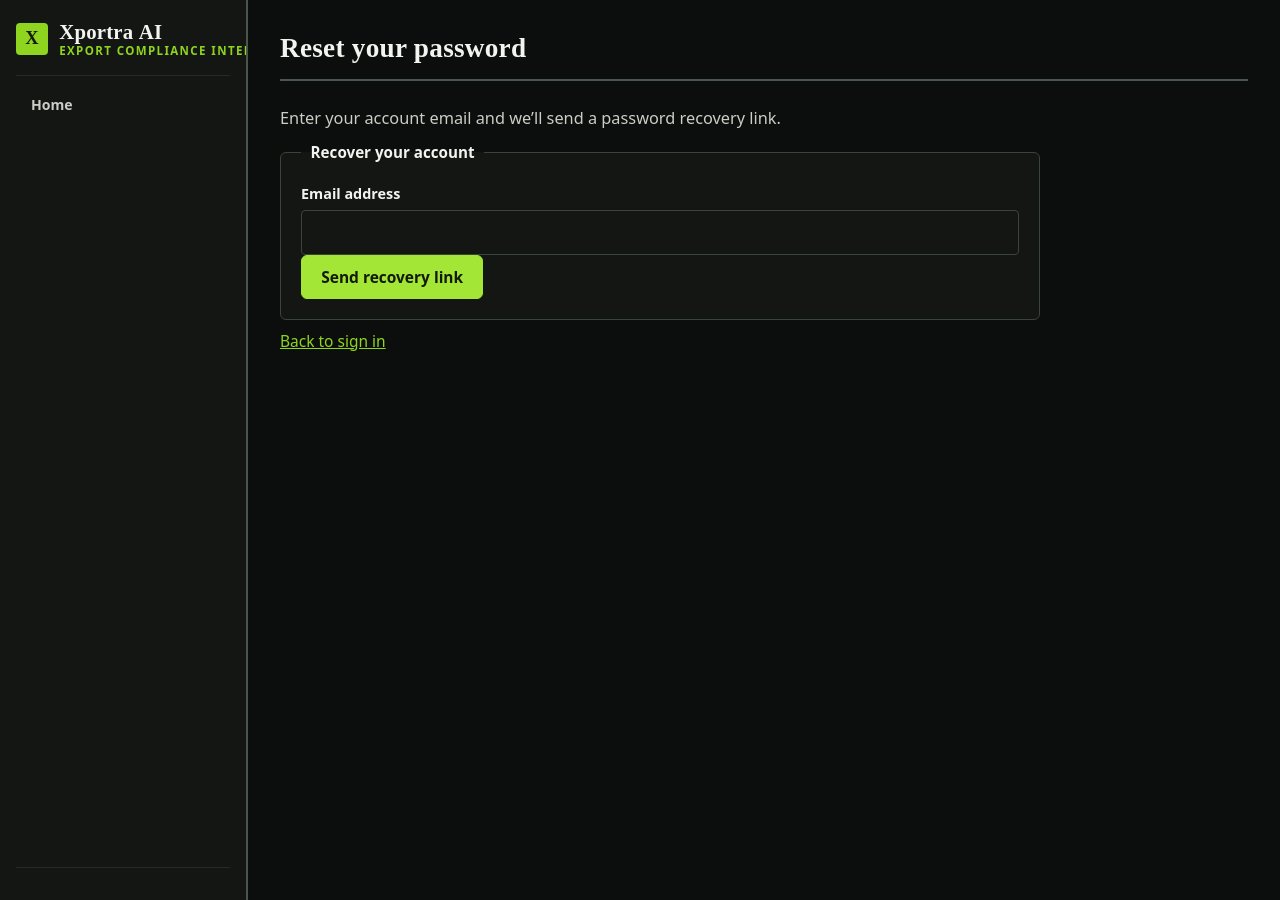
it: ResetPasswordPage › shows a safe error when the recovery request fails
In the field labelled "Email address": (660, 233) [301, 210, 1019, 255], type "owner@example.com"
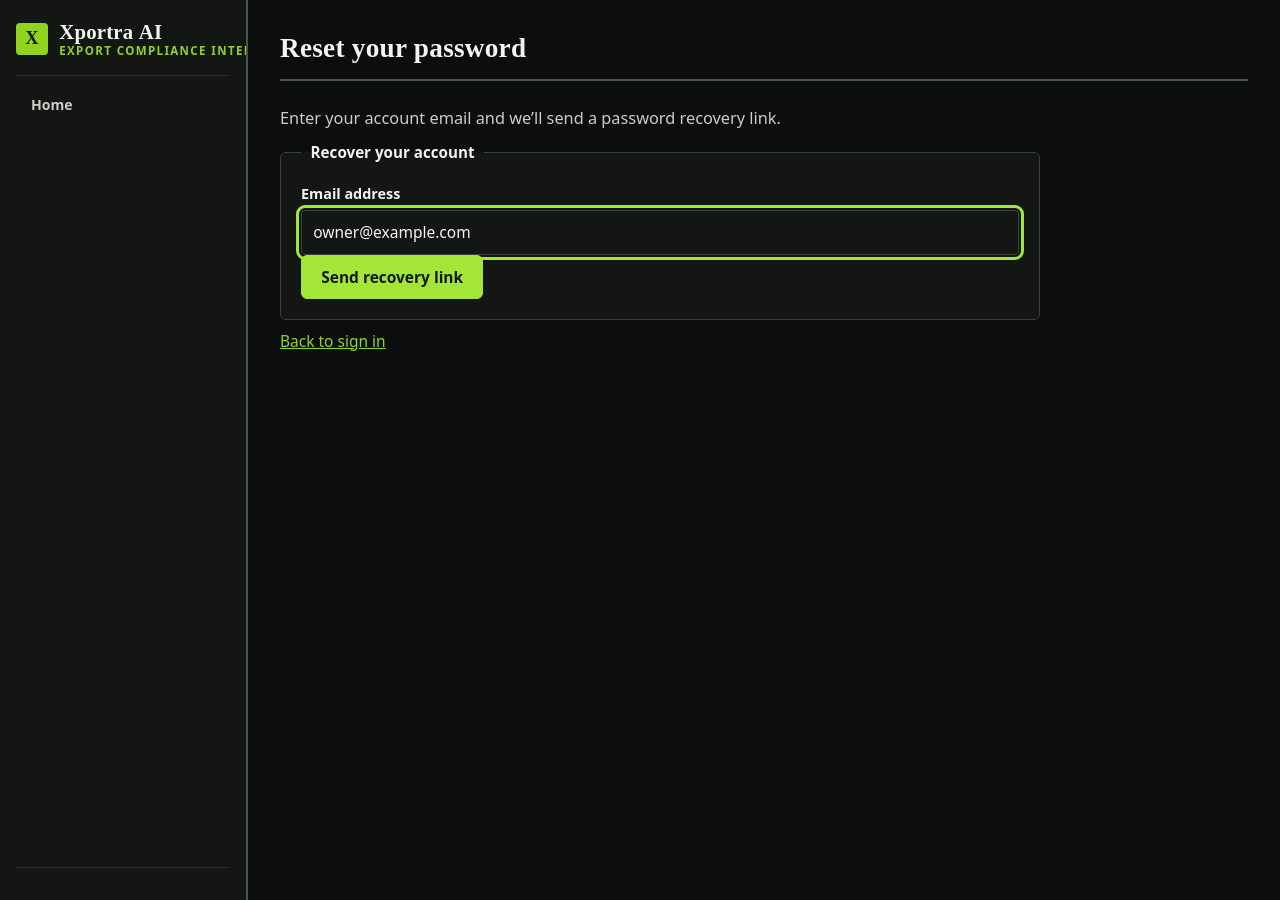
Click the button "Send recovery link": (392, 277) [301, 255, 483, 299]
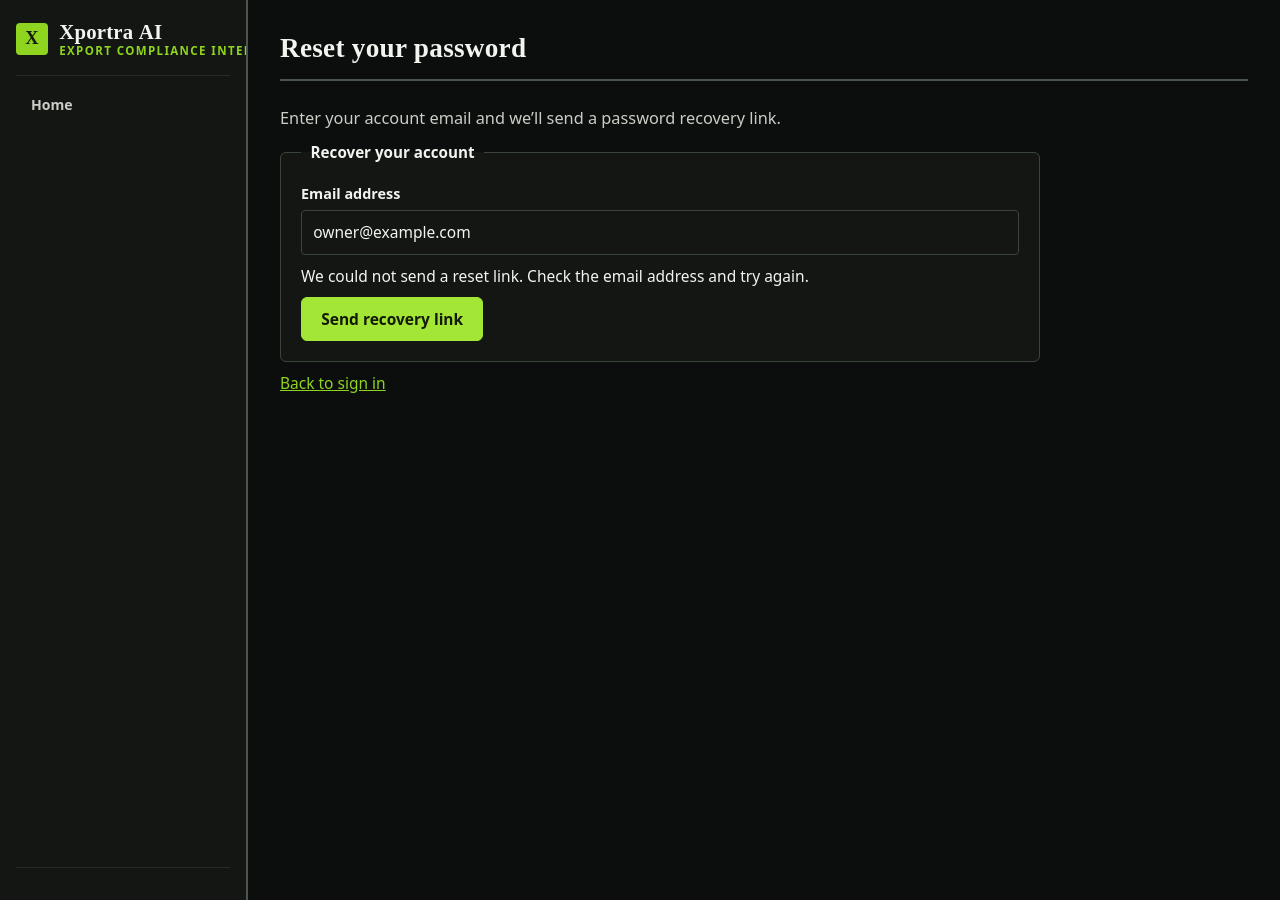
Expected: the message shows "could not send a reset link", [301, 265, 809, 287]
